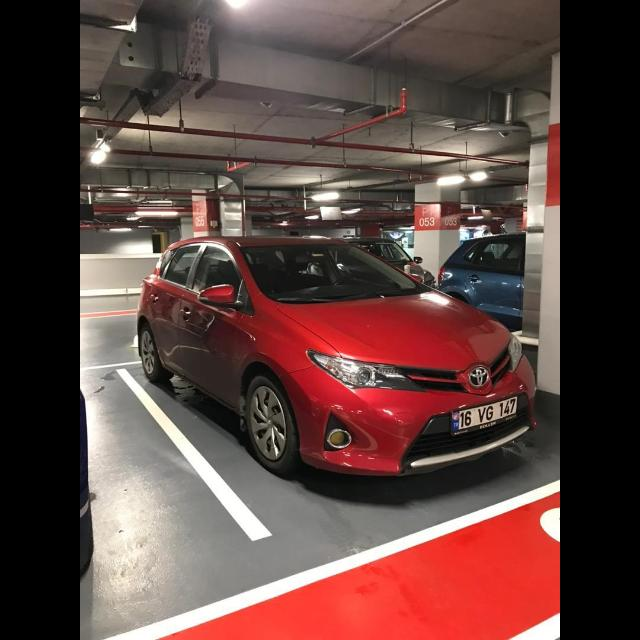Plaka: (452, 396, 518, 432)
